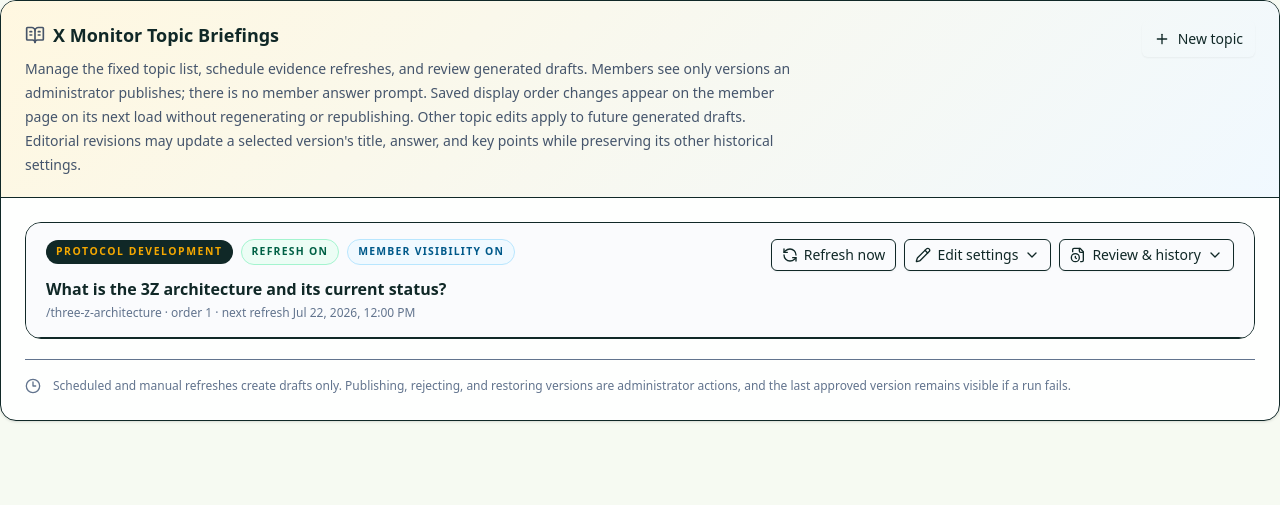
Scenario: Topic Briefings admin panel › queues a refresh without publishing from the browser
The width and height of the screenshot is (1280, 505).
Click the button "Refresh now" at {"x": 834, "y": 255}, box [771,239,896,271]
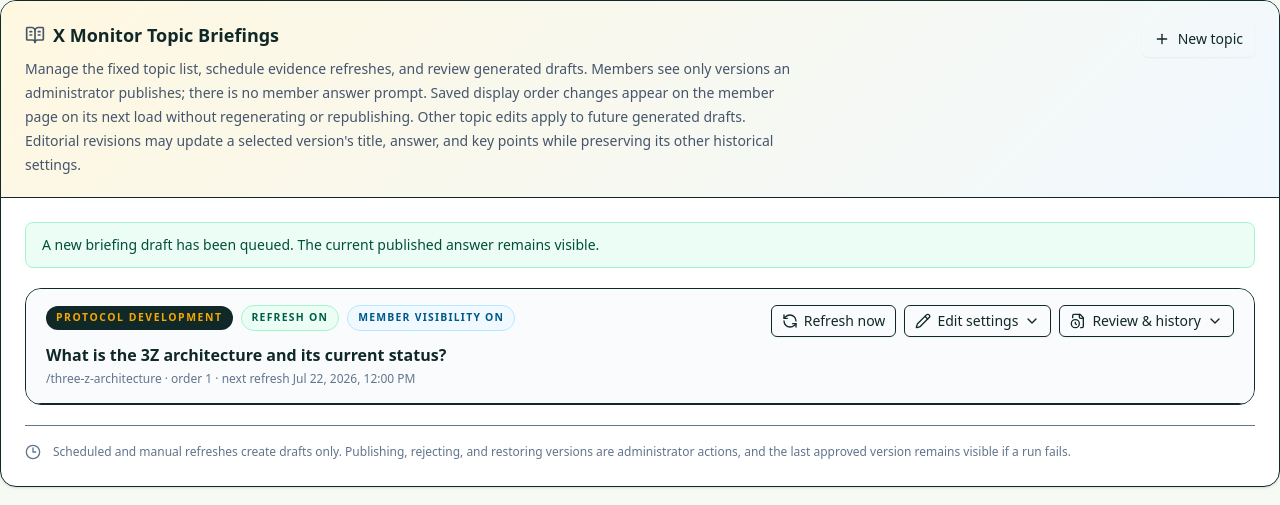
Now the text "new briefing draft has been queued" is shown, box [42,235,599,254]
